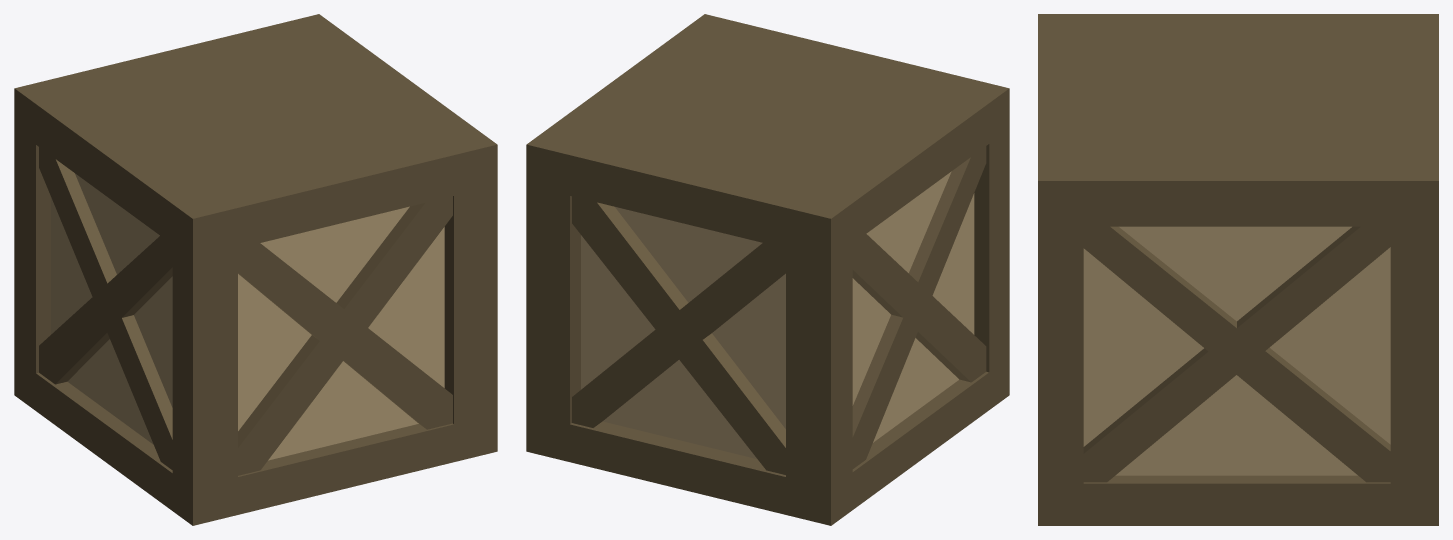
Rendered from Crate.fbx.
3 renders of one model, left to right at view 1: azimuth 30°, elevation 25°; view 2: azimuth 150°, elevation 25°; view 3: azimuth 270°, elevation 25°, orthographic. The views are drawn at different scales.
Visible parts, largest first — view 1: pCube5; view 2: pCube5; view 3: pCube5.
Boxes of the visible parts, x1,y1,x2,y2 form: pCube5: (14, 14, 497, 525); pCube5: (526, 14, 1009, 525); pCube5: (1038, 14, 1438, 525).
Bounding box in the file's own units: 2.79 × 2.69 × 2.83.
